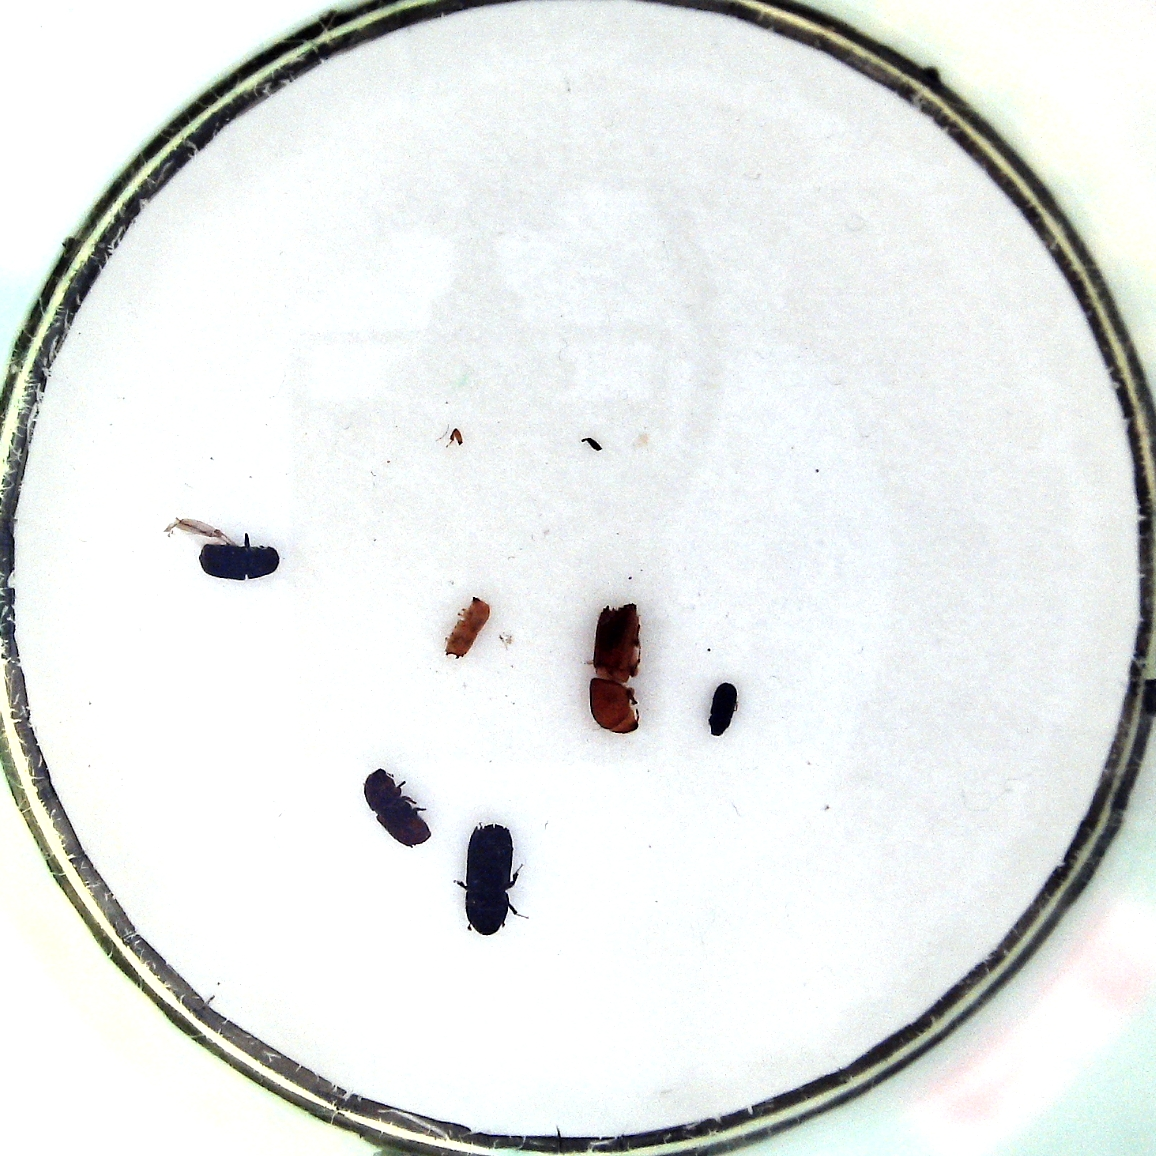Boerner: (585, 601, 647, 733), (460, 820, 521, 937)
Linnaeus: (362, 767, 432, 848)
acuminatus: (439, 594, 493, 661)
armandi: (191, 532, 283, 583)
coleoptera: (708, 679, 736, 737)
